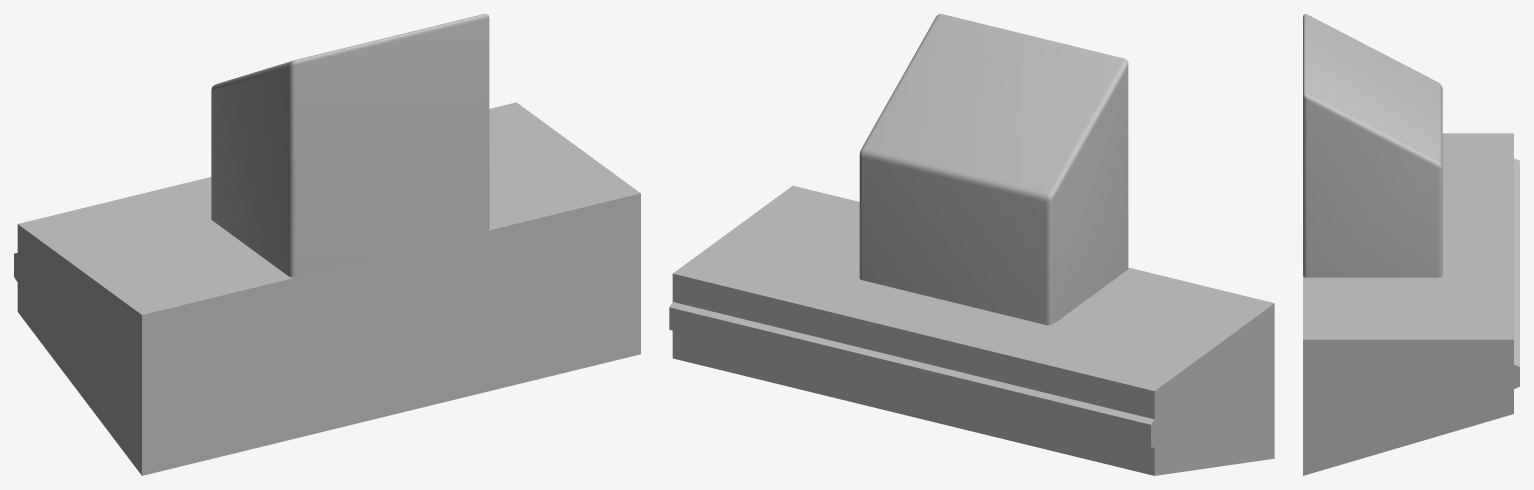
The model's file is Prop_Aspirator.fbx.
3 renders of one model, left to right at view 1: azimuth 30°, elevation 25°; view 2: azimuth 150°, elevation 25°; view 3: azimuth 270°, elevation 25°, orthographic. The views are drawn at different scales.
Visible parts, largest first — view 1: Prop_Aspirator; view 2: Prop_Aspirator; view 3: Prop_Aspirator.
Part boxes in pixels (x1,y1,x2,y2): Prop_Aspirator: (14,14,640,475); Prop_Aspirator: (669,14,1274,475); Prop_Aspirator: (1303,14,1519,475).
Size of the model in its own units: 68.99 by 49.8 by 30.66.
